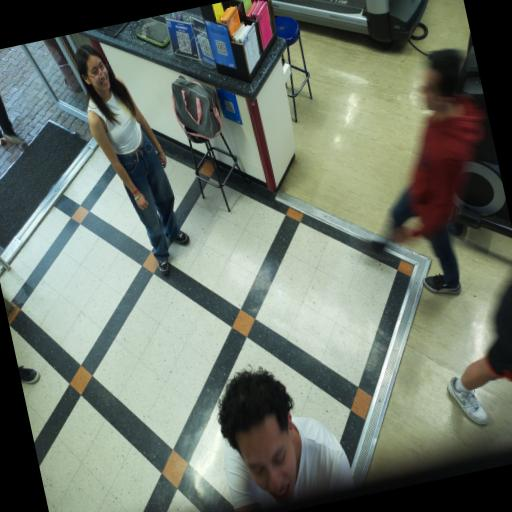person: (76, 45, 189, 275), (392, 50, 484, 294), (218, 368, 353, 511), (449, 286, 511, 424), (0, 96, 26, 146), (18, 366, 40, 384)
